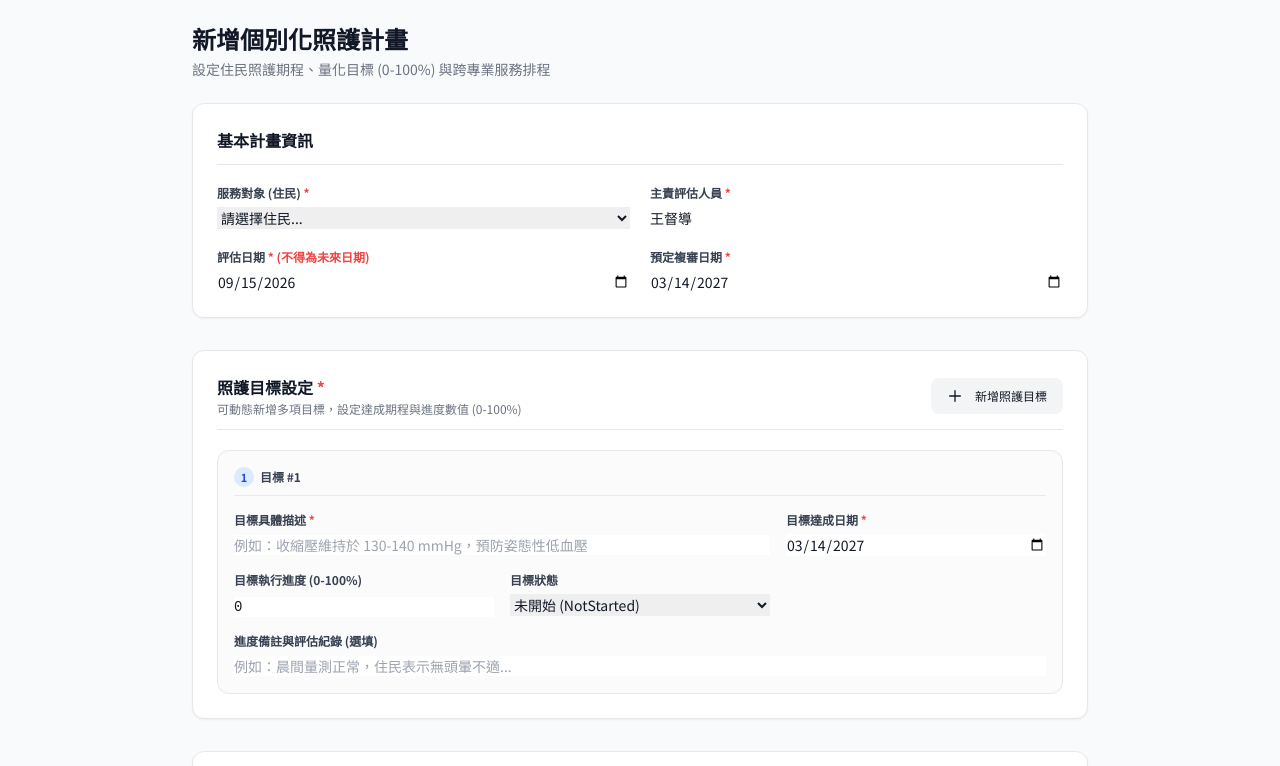
CarePlanFormPage › renders create form and allows dynamically adding goals and service items
Expected: the heading "新增個別化照護計畫" is shown, x1=192 y1=21 x2=408 y2=56
Expected: the text "目標 #1" is shown, x1=234 y1=467 x2=301 y2=487
Click to add a second goal
Click the button "新增照護目標".
click(997, 396)  # box x1=931 y1=378 x2=1063 y2=414
(page scrolled)
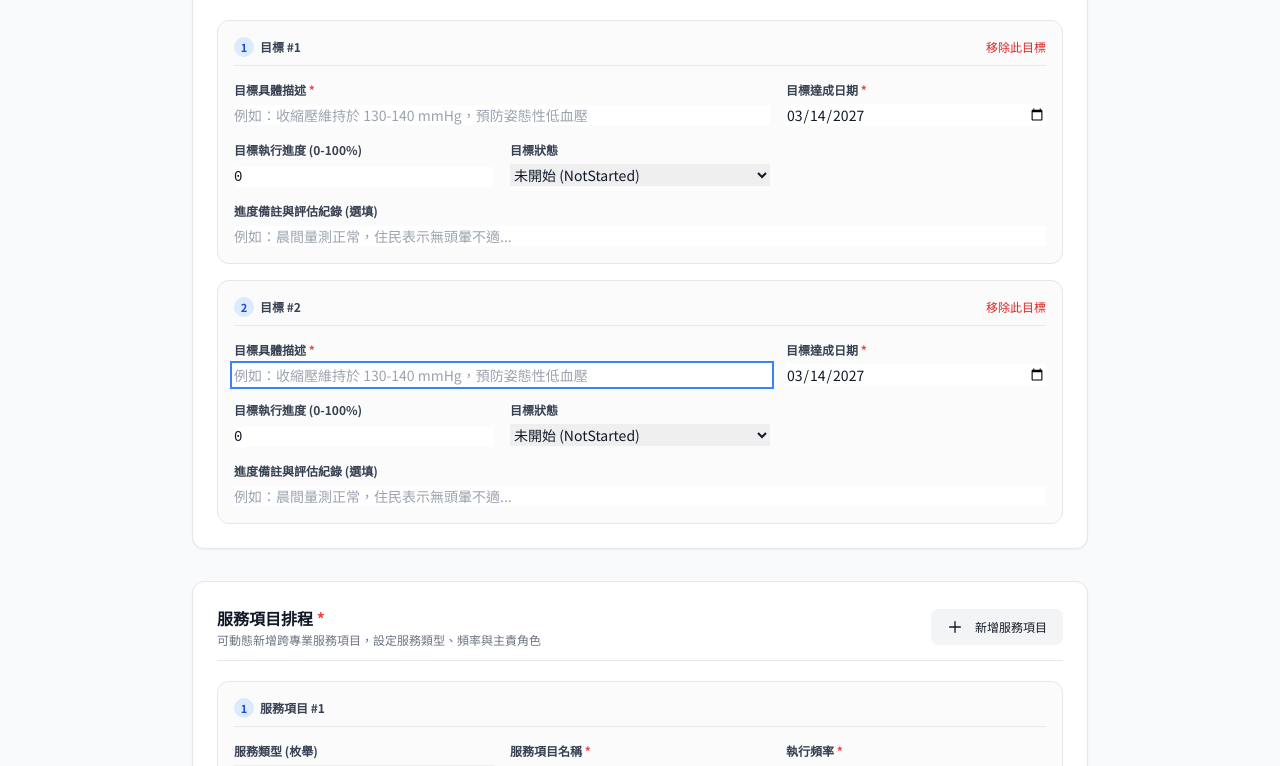
Expected: the text "目標 #2" is shown, x1=234 y1=297 x2=301 y2=317
Click to add a second service item
Click the button "新增服務項目".
click(997, 627)  # box x1=931 y1=609 x2=1063 y2=645
(page scrolled)
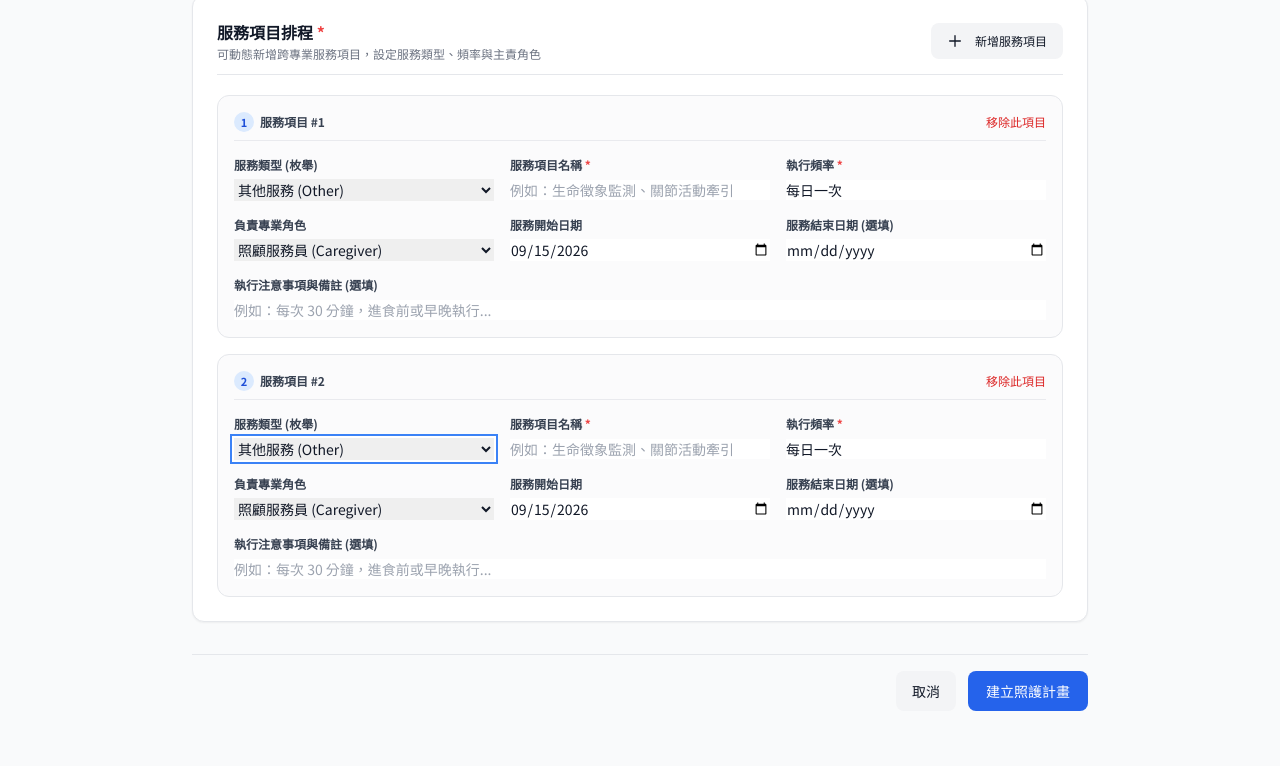
Expected: the text "服務項目 #2" is shown, x1=234 y1=371 x2=325 y2=391
